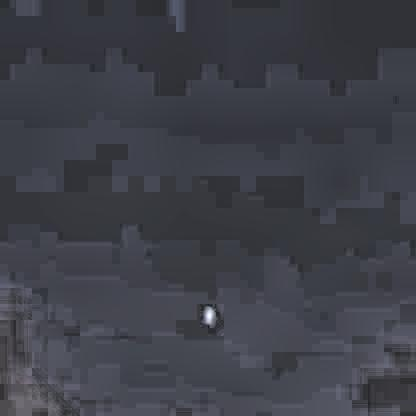golfball: (199, 301, 215, 323)
